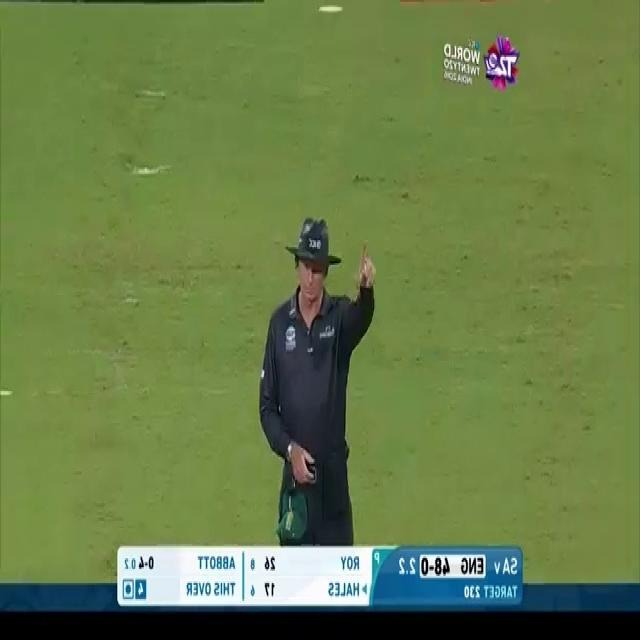Out: (253, 209, 381, 546)
